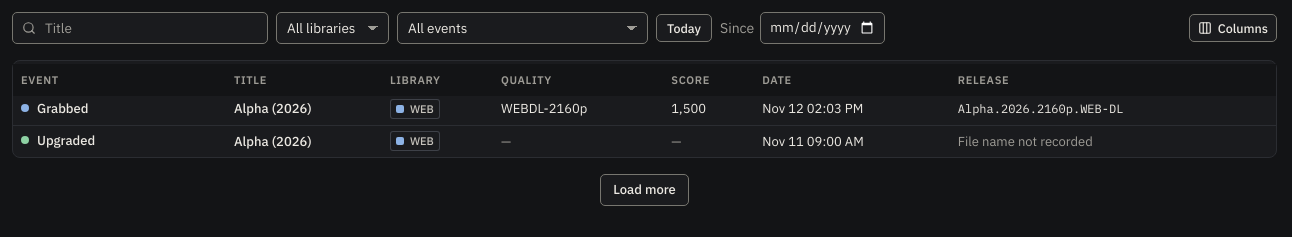
Test: keeps the rows when Load more fails, says so, and Retry reads the next page again
Expected: the number of rows with test id "history-row" is 2, x1=13 y1=93 x2=1276 y2=125; x1=13 y1=125 x2=1276 y2=157
Click the button "Load more". click: {"x": 645, "y": 190}
box: x1=600 y1=174 x2=689 y2=206
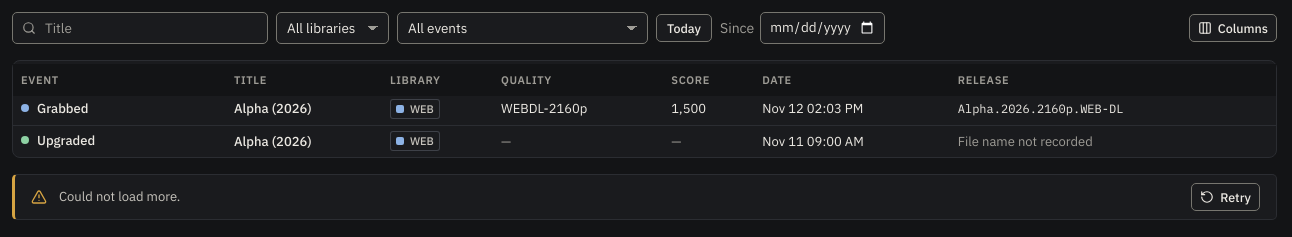
Expected: the number of rows with test id "history-row" is 2, x1=13 y1=93 x2=1276 y2=125; x1=13 y1=125 x2=1276 y2=157
Result: the message with test id "stale-notice" reads "Could not load more. Retry" at x1=12 y1=174 x2=1277 y2=220
Click the button "Retry". click: {"x": 1226, "y": 197}
box: x1=1191 y1=183 x2=1260 y2=211
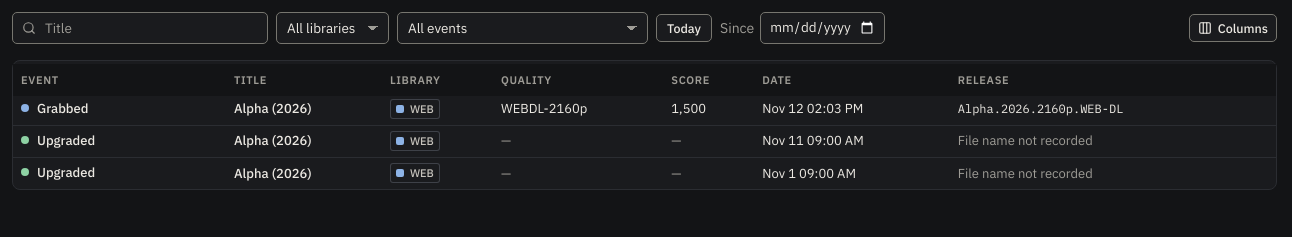
Result: the number of rows with test id "history-row" is 3 at x1=13 y1=93 x2=1276 y2=125; x1=13 y1=125 x2=1276 y2=157; x1=13 y1=157 x2=1276 y2=189
Result: the message with test id "stale-notice" is gone
